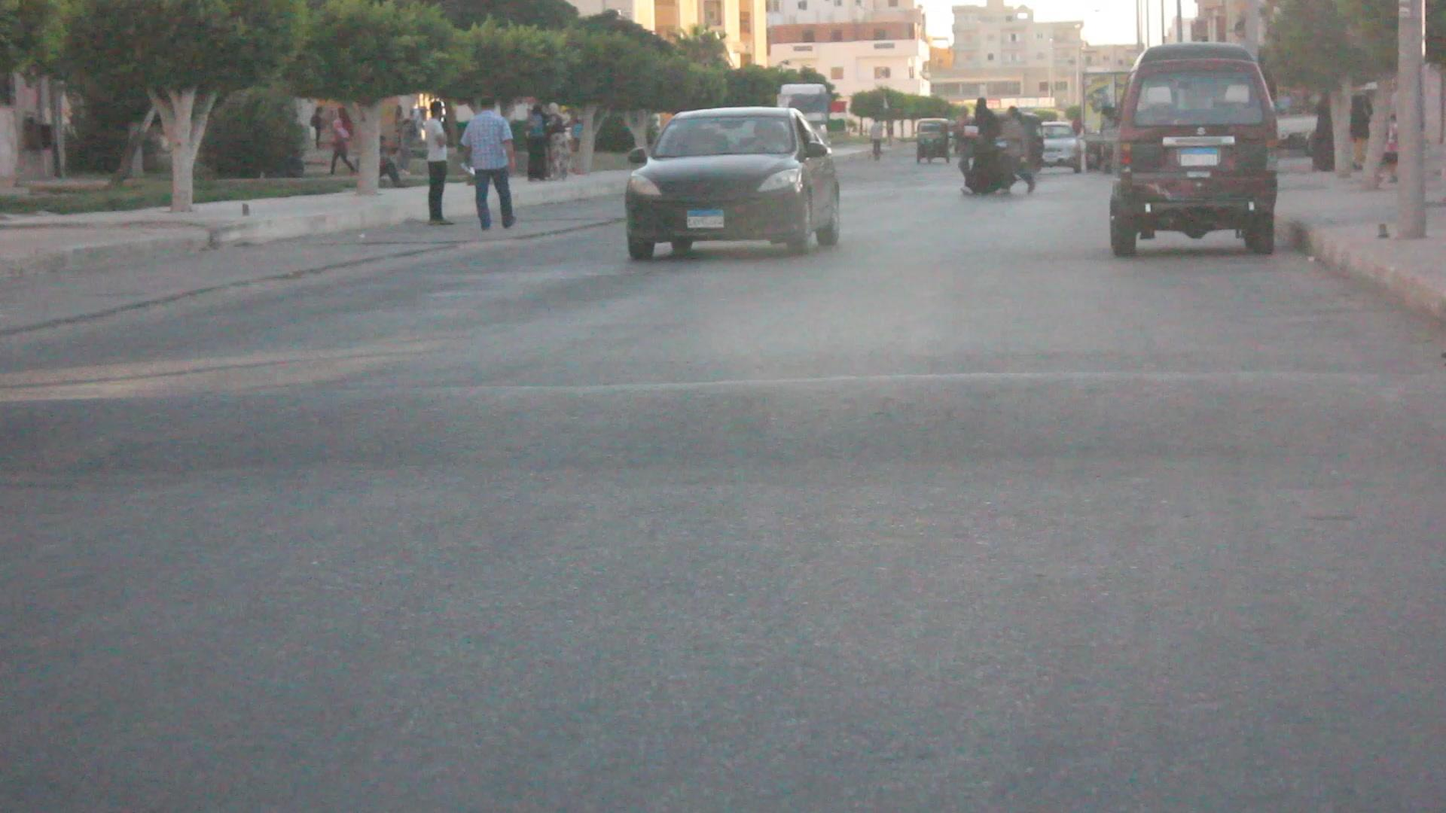Bump: (0, 367, 1446, 482)
